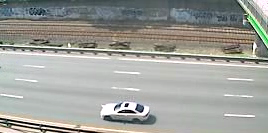car: (98, 100, 153, 125)
